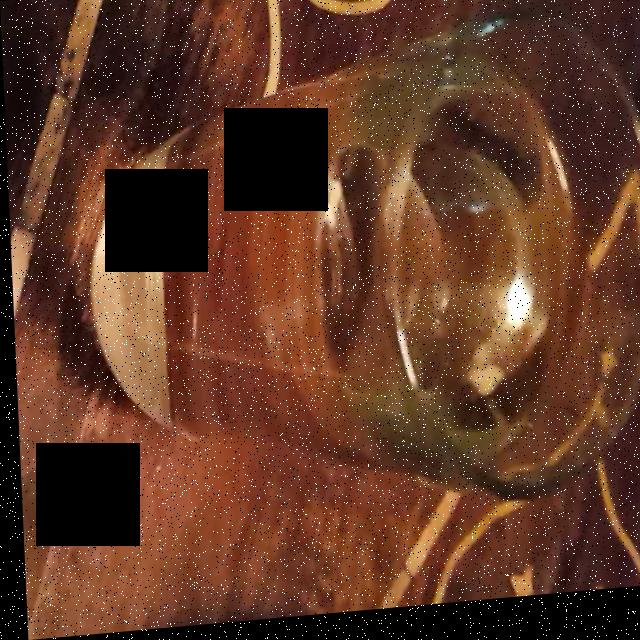water: (92, 55, 599, 491)
